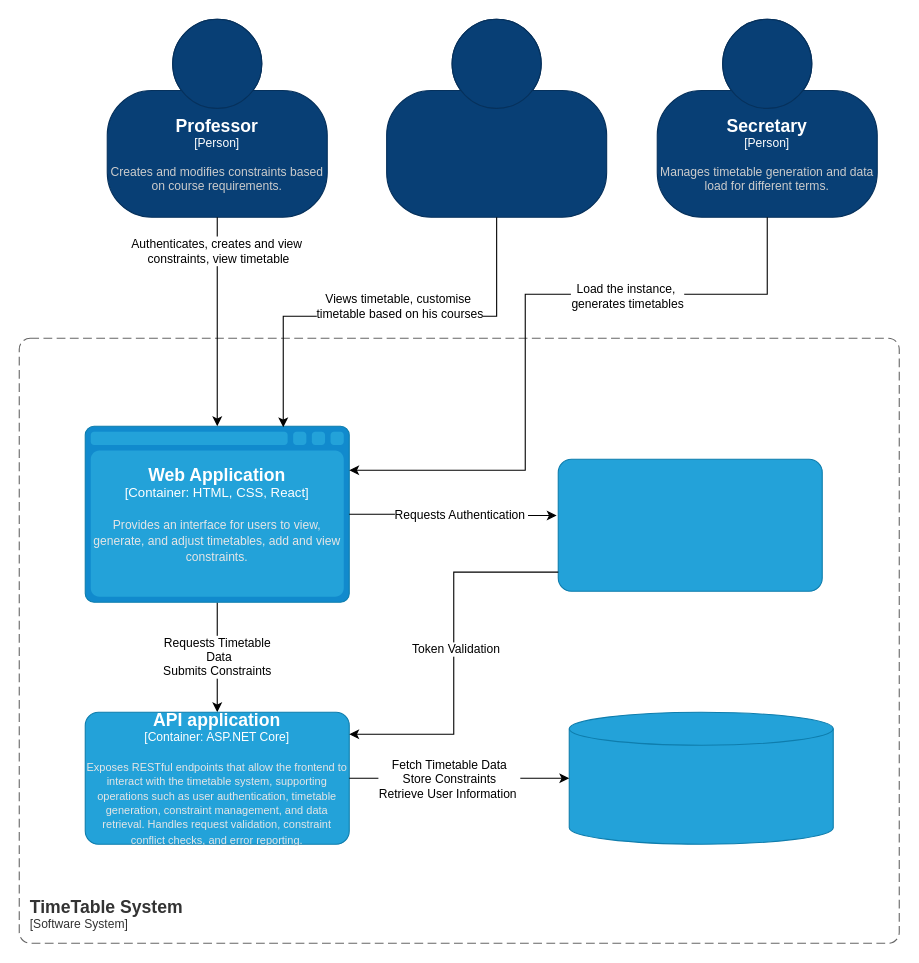
Image size: 919x963. Some labels were removed from this diagram. The shapes that lost their labels are listed below. From the top down, each one's box as (x1, y1, x2, y2) in pixels, then its label:
(386, 18, 607, 217): Student [Person] Views and customizes timetable according to enrolled courses.
(557, 458, 822, 591): Authentication Service [Container: JWT] Authentication process.
(568, 711, 833, 844): Database [Container: PostgreSQL] Stores instances and constraints.
